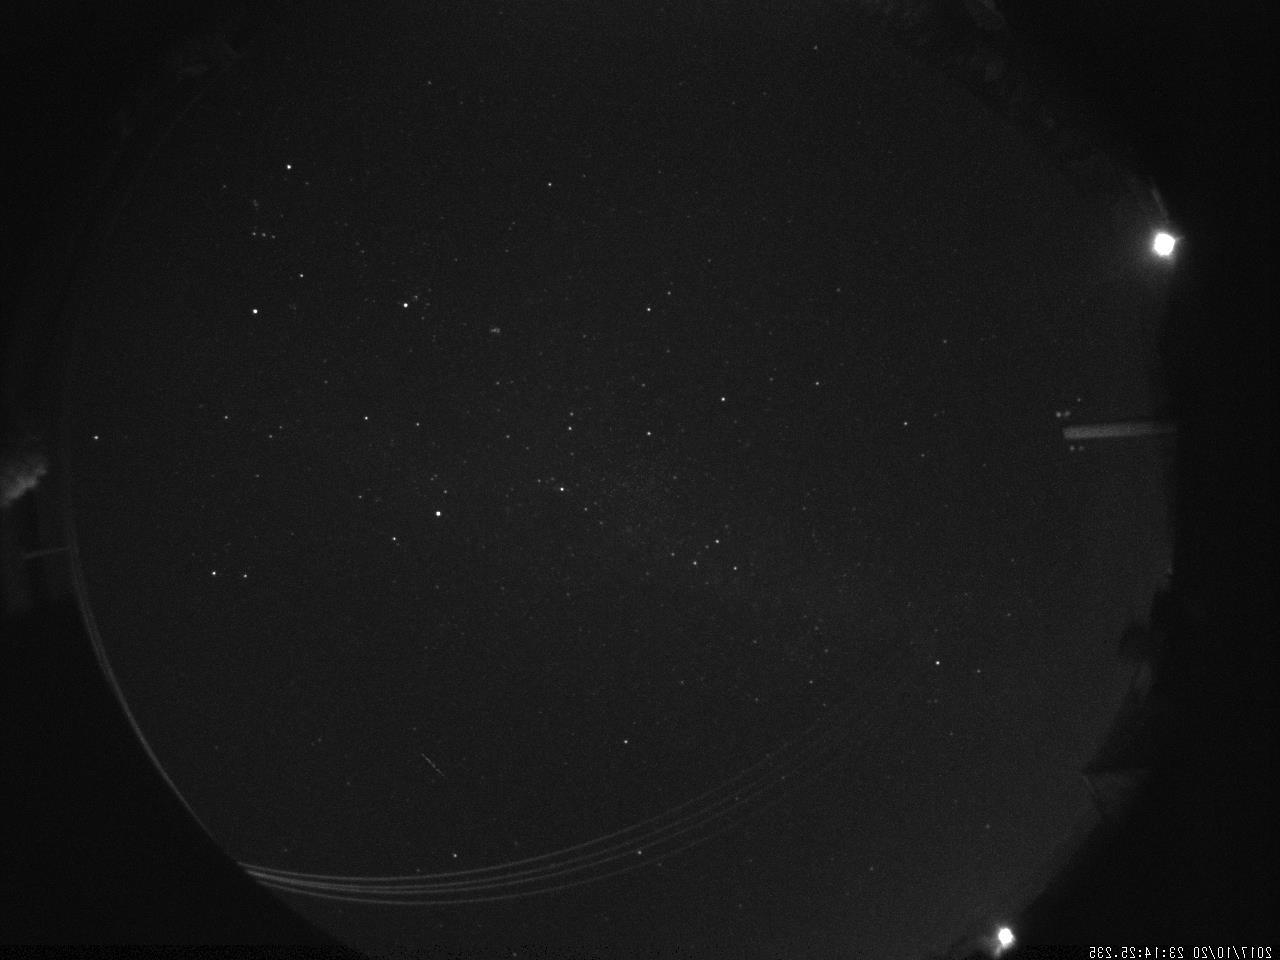meteor: (401, 743, 468, 787)
